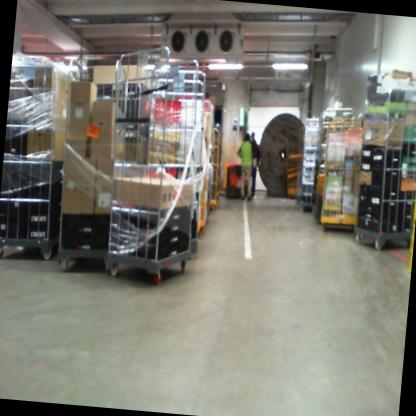pallet_truck: (209, 160, 257, 203)
